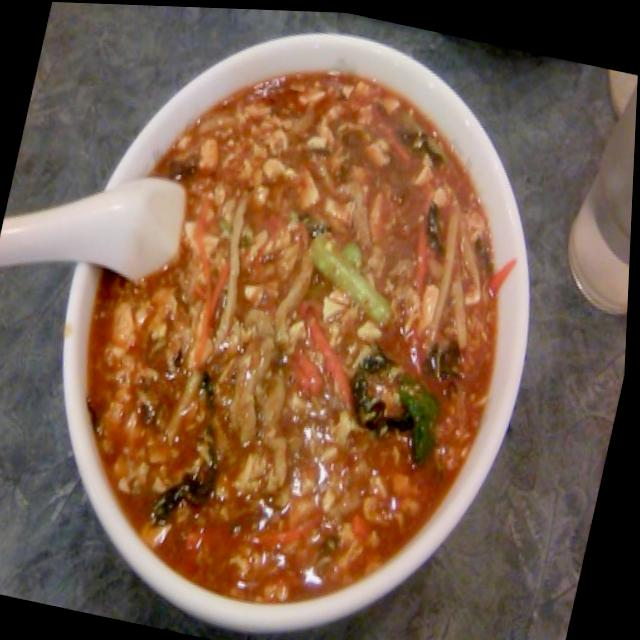面条主食: (5, 1, 588, 640)
